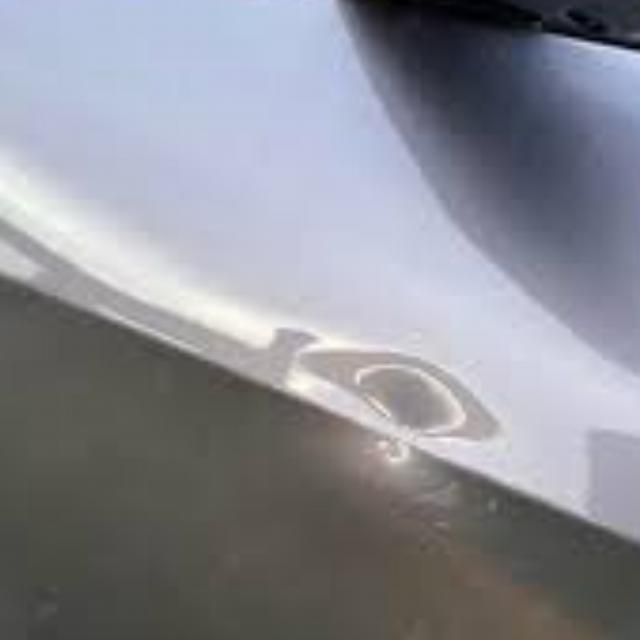dents: (286, 349, 520, 509)
